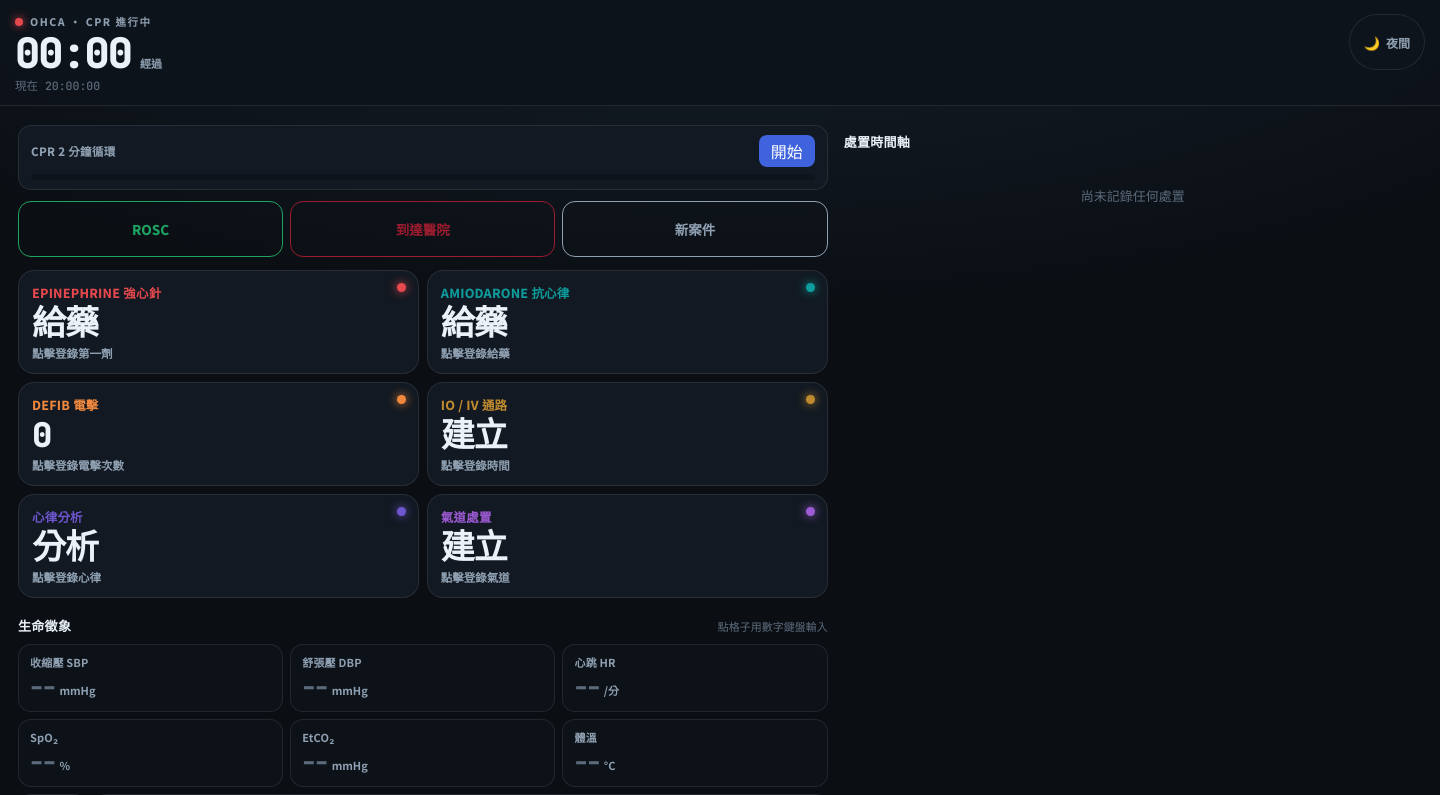
Test: App — US2 drugs & shocks › logs Epinephrine, increments count and starts a countdown (FR-003)
The width and height of the screenshot is (1440, 795).
Click the text "EPINEPHRINE 強心針". click: coordinates (97, 292)
box: x1=32 y1=283 x2=161 y2=302
(page scrolled)
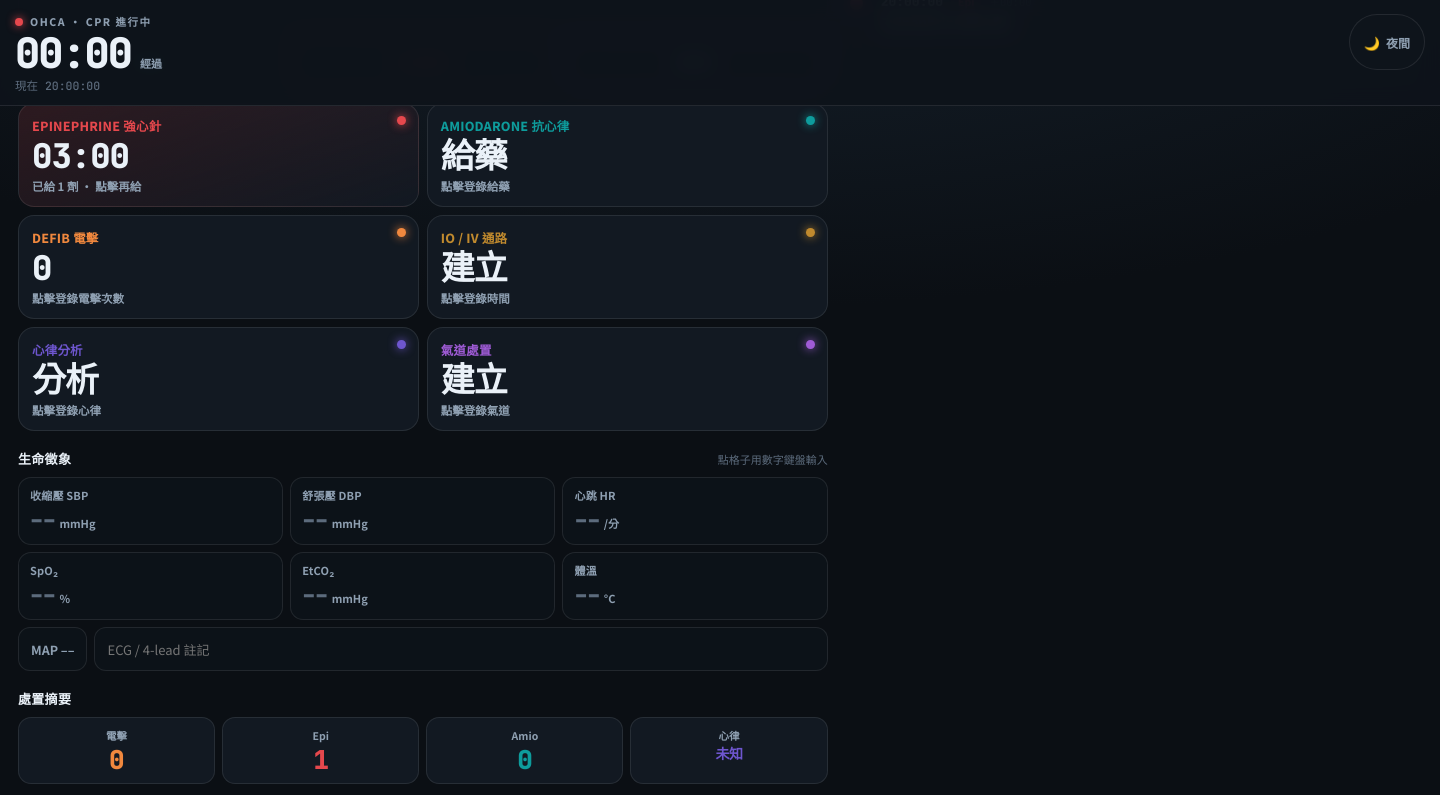
Result: the text "已給 1 劑 · 點擊再給" is shown at x1=32 y1=178 x2=141 y2=194
